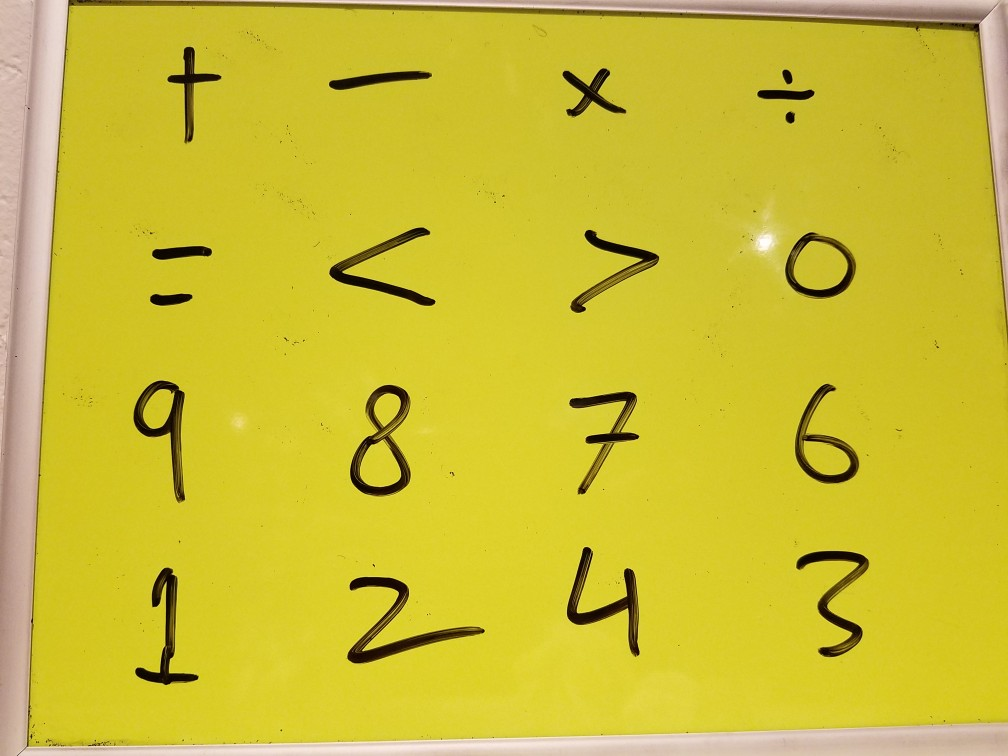+: (154, 34, 227, 152)
-: (313, 48, 448, 109)
0: (766, 223, 866, 305)
1: (122, 557, 216, 701)
2: (328, 562, 495, 669)
3: (779, 530, 877, 662)
4: (550, 540, 653, 668)
6: (779, 363, 868, 493)
7: (556, 377, 646, 510)
8: (334, 375, 426, 506)
9: (121, 375, 204, 509)
<: (310, 218, 452, 322)
=: (140, 234, 224, 313)
>: (546, 206, 670, 317)
div: (747, 54, 827, 134)
x: (547, 59, 632, 126)
